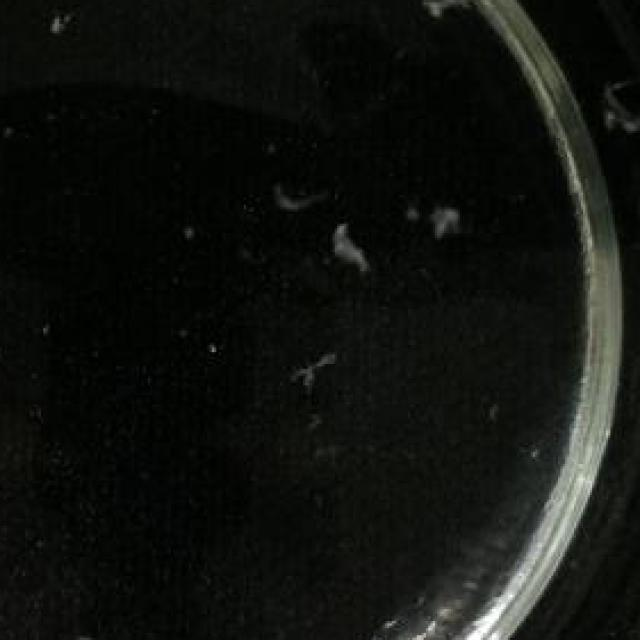Microplastic: (599, 55, 640, 159), (291, 328, 344, 395), (321, 221, 376, 283), (271, 174, 326, 224), (417, 0, 483, 40), (424, 202, 476, 250)
